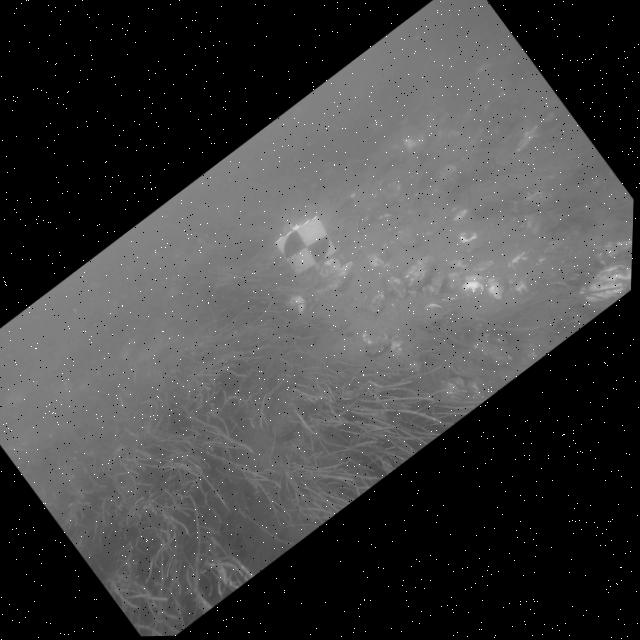Oyster-Closed: (579, 265, 632, 302), (405, 256, 436, 289), (385, 275, 411, 298), (362, 329, 393, 347), (366, 291, 386, 311)
Oyster-Indeterminate: (460, 231, 484, 253), (320, 259, 342, 280), (443, 271, 464, 291), (367, 247, 386, 267), (287, 295, 306, 314), (508, 251, 528, 268), (487, 278, 504, 298), (508, 276, 528, 292), (462, 279, 484, 293), (430, 275, 445, 295), (390, 338, 402, 352)
Oyster-Open: (326, 258, 354, 292), (447, 358, 478, 382), (381, 244, 392, 260)
